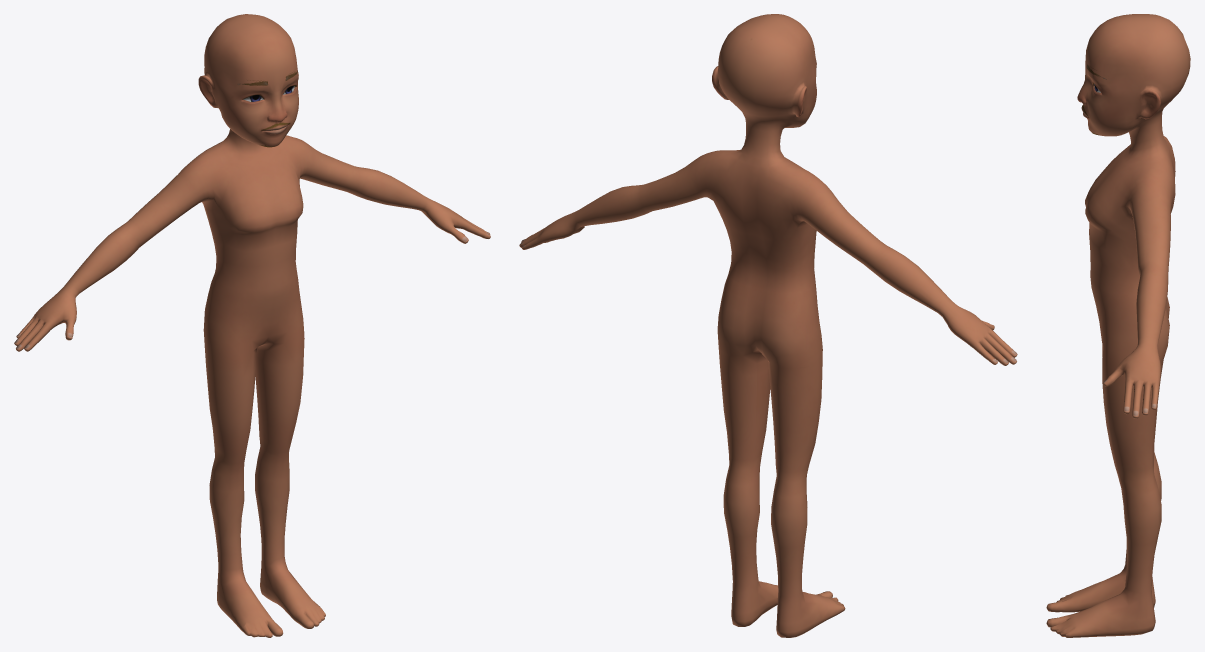
Rendered from frame_0022.glb.
The picture shows the model from 3 angles, left to right: view 1: azimuth 30°, elevation 25°; view 2: azimuth 150°, elevation 25°; view 3: azimuth 270°, elevation 25°; orthographic projection. The views are drawn at different scales.
Parts seen in each view (by area): view 1: frame_0022_head_geo; view 2: frame_0022_head_geo; view 3: frame_0022_head_geo.
Boxes of the visible parts, left/top/right/bottom form: frame_0022_head_geo: left=14, top=14, right=490, bottom=637; frame_0022_head_geo: left=519, top=14, right=1017, bottom=637; frame_0022_head_geo: left=1046, top=14, right=1190, bottom=637.
Size of the model in its own units: 1.28 by 1.5 by 0.3253.
3 materials, 3 textured.
